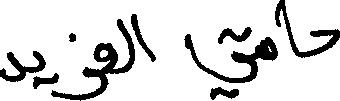X: (188, 22, 253, 100), (98, 38, 115, 99), (312, 24, 339, 60), (135, 9, 152, 66), (119, 9, 133, 77), (261, 2, 276, 65), (0, 47, 23, 86), (283, 0, 297, 60), (82, 41, 96, 100), (34, 46, 44, 93)
